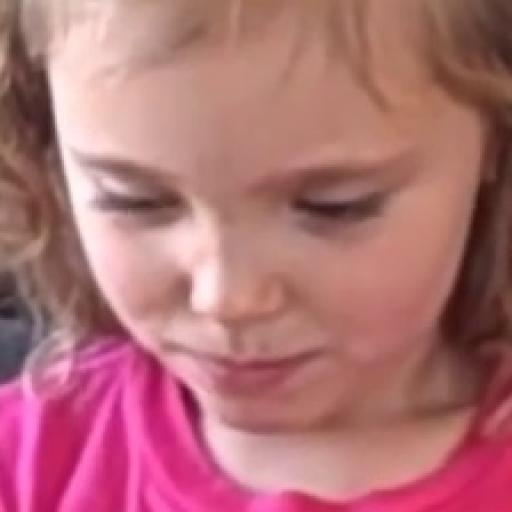Autism: (27, 0, 511, 498)
